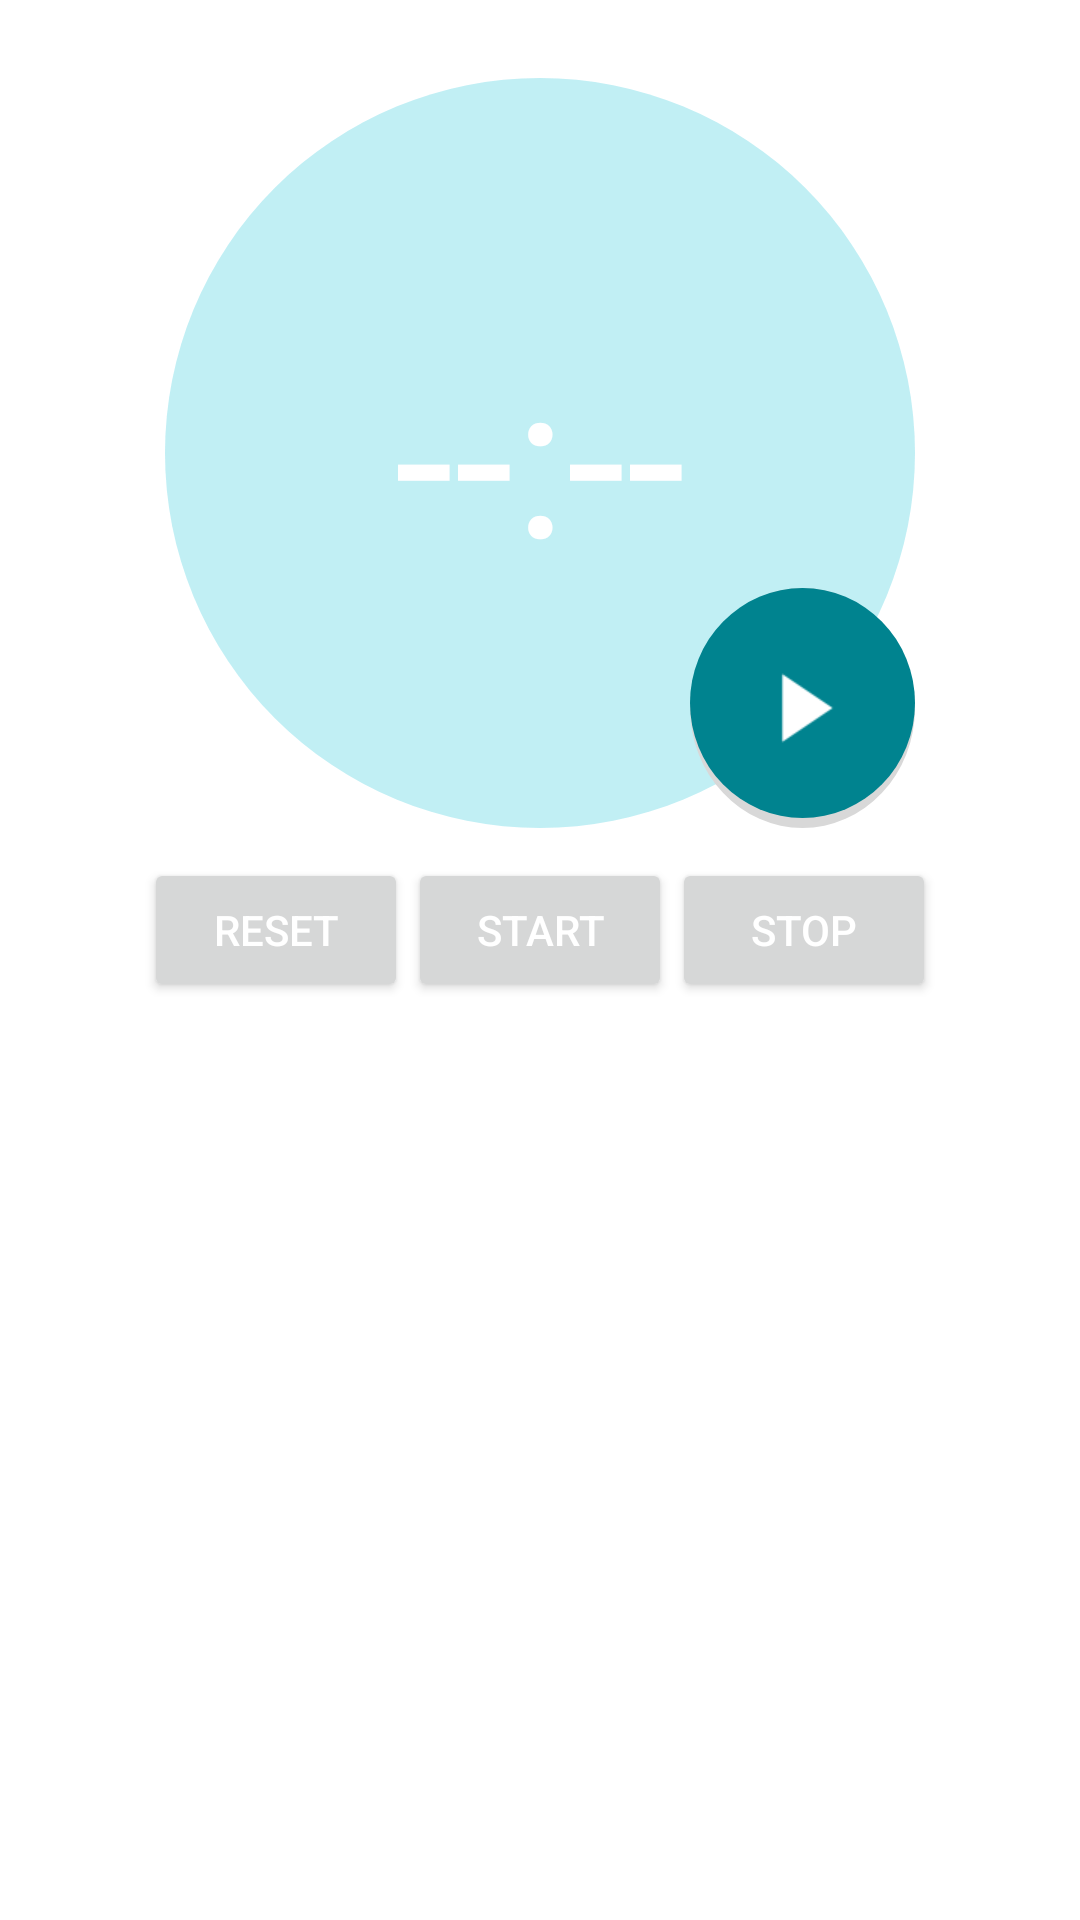

Screen size 1080x1920. Icon name, then its center in pixels as [x,y]:
play: [802,708]
